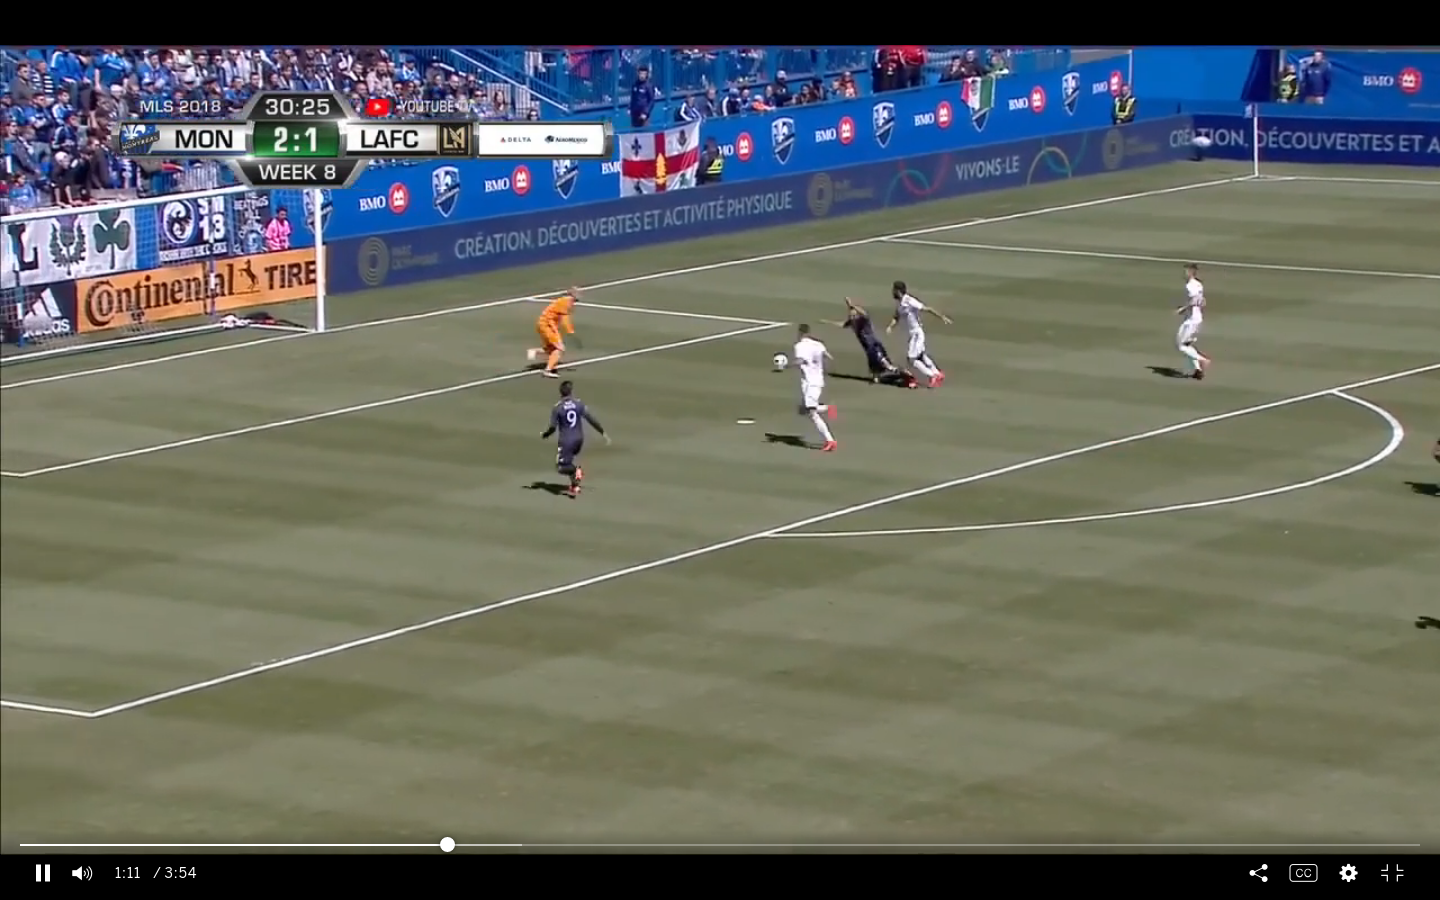soccer player: (536, 380, 602, 505), (884, 277, 955, 391), (841, 303, 912, 392), (790, 325, 838, 454), (1173, 256, 1218, 380), (524, 283, 582, 376)
soccerball: (772, 349, 792, 376)
